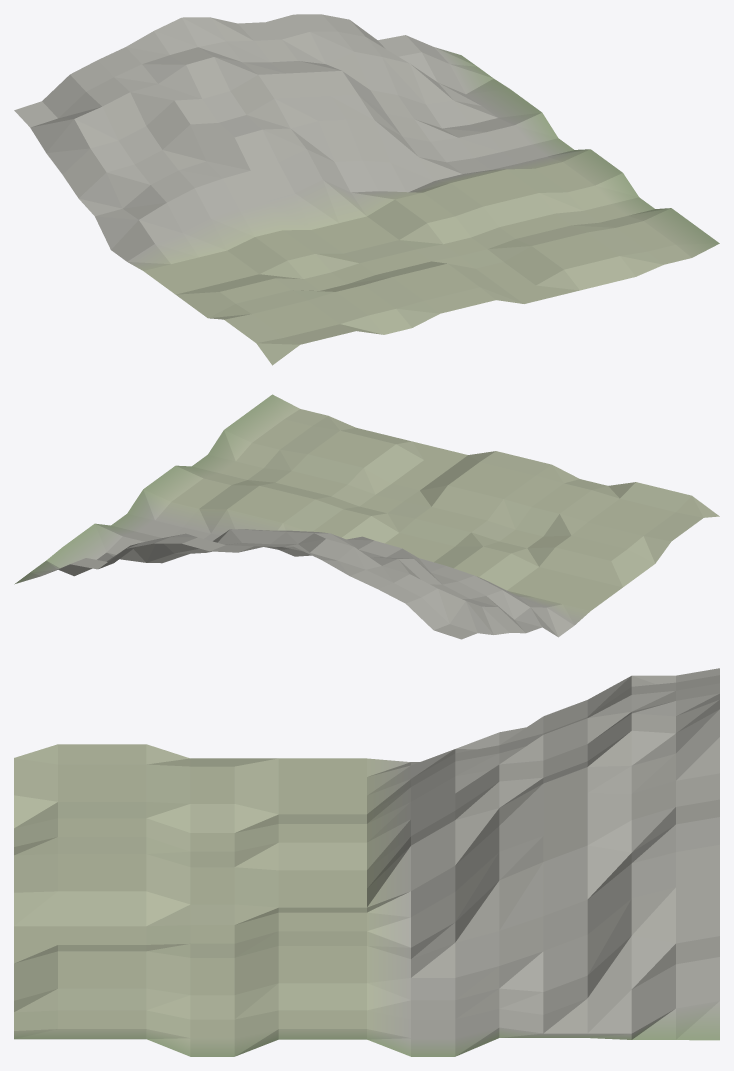
3 views of the same model, one above another, from view 1: azimuth 30°, elevation 25°; view 2: azimuth 150°, elevation 25°; view 3: azimuth 270°, elevation 25° (orthographic). The views are drawn at different scales.
Bounding box in the file's own units: 32 × 8.24 × 32.
